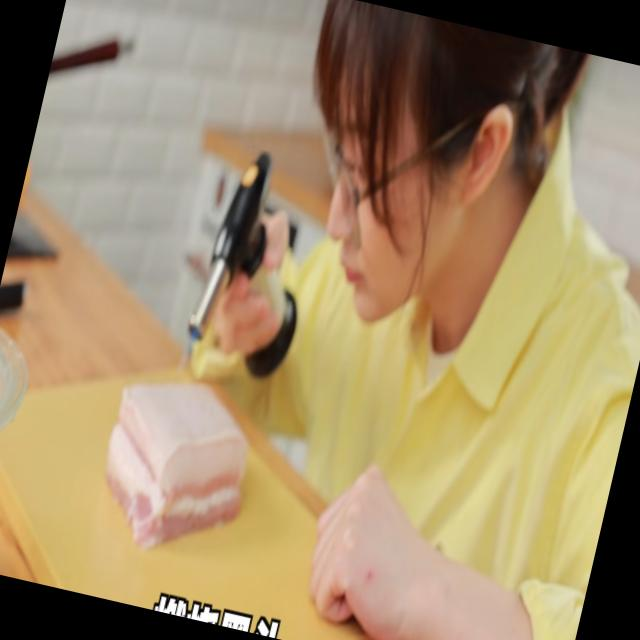pork: (91, 369, 263, 566)
